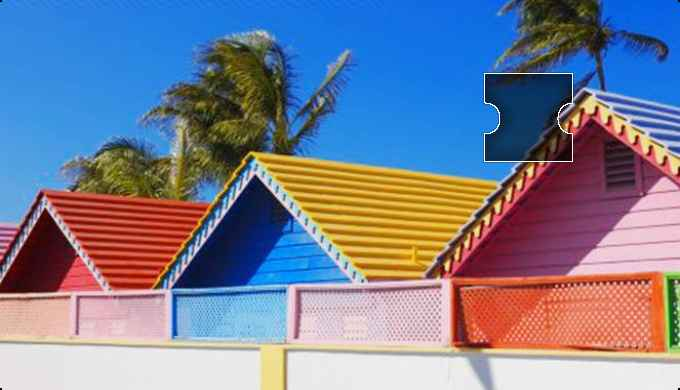gap: (483, 73, 576, 164)
